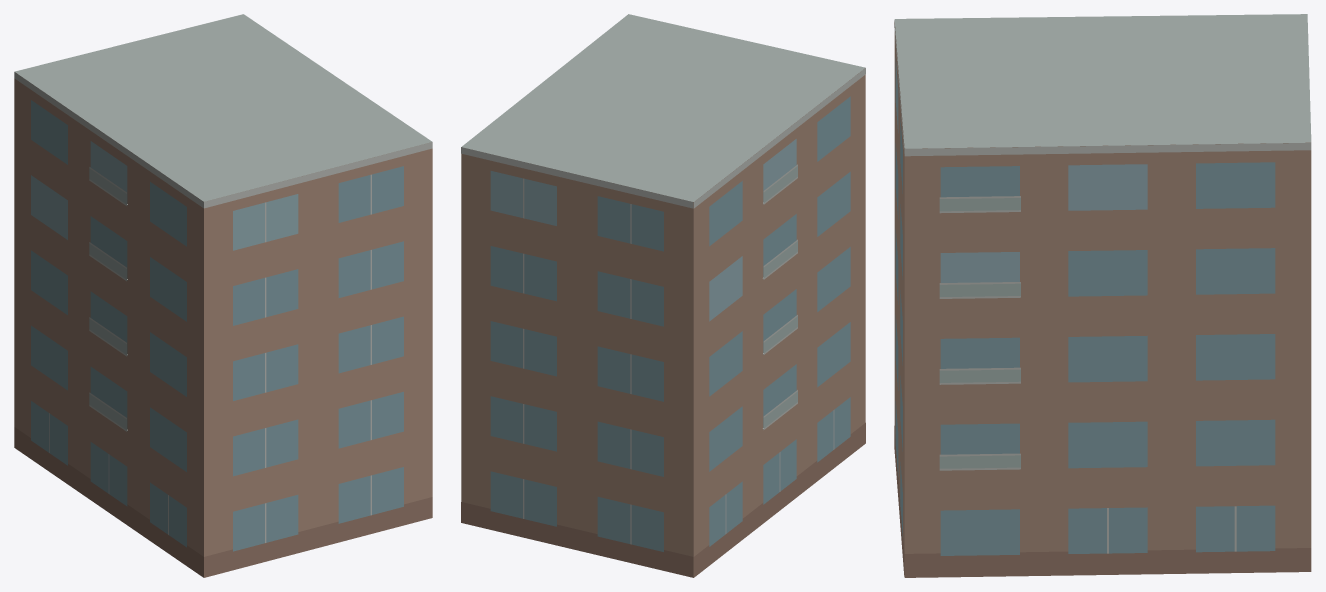
File: survey-upis-32703181.glb
3 renders of one model, left to right at view 1: azimuth 30°, elevation 25°; view 2: azimuth 150°, elevation 25°; view 3: azimuth 270°, elevation 25°, orthographic. The views are drawn at different scales.
Visible parts, largest first — view 1: survey-upis-32703181.tmp; view 2: survey-upis-32703181.tmp; view 3: survey-upis-32703181.tmp.
Boxes of the visible parts, box(x1,y1,x2,y2) form: survey-upis-32703181.tmp: box(14, 14, 432, 577); survey-upis-32703181.tmp: box(461, 14, 865, 577); survey-upis-32703181.tmp: box(894, 14, 1311, 577).
Size of the model in its own units: 9.37 by 13.9 by 12.25.
